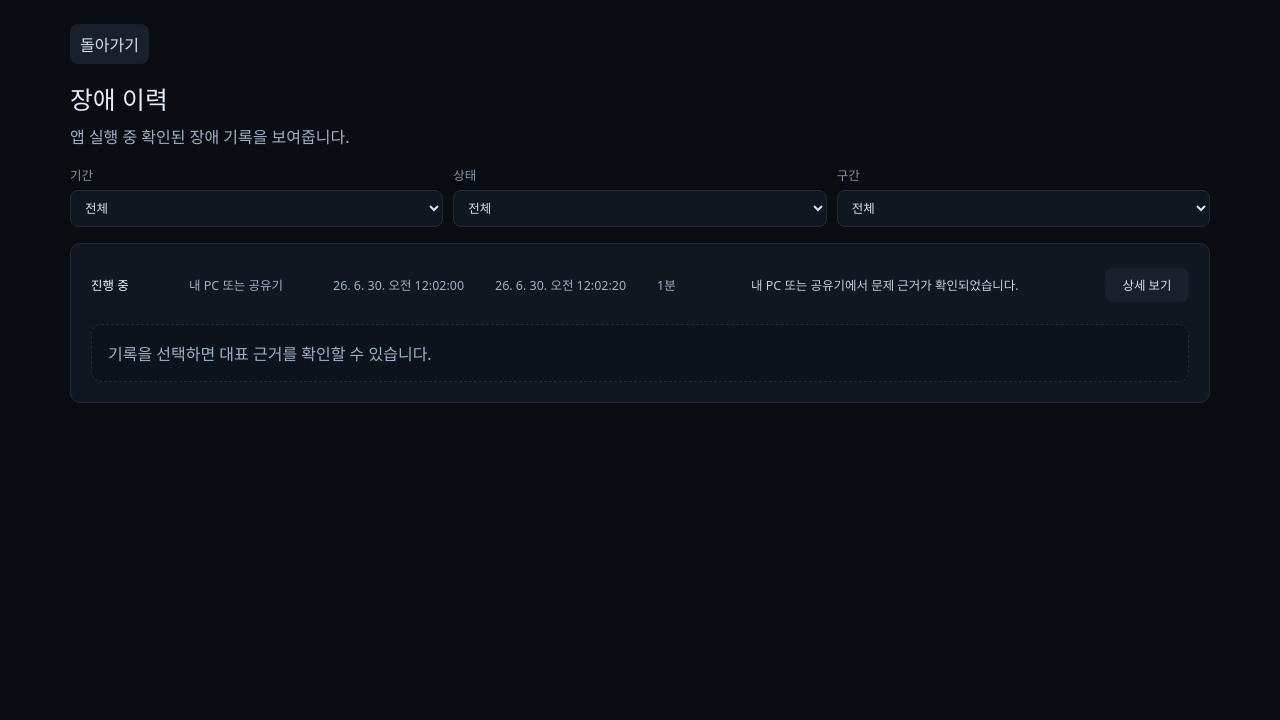
it: NetworkIncidentHistoryPage › closes the detail panel when the close action is pressed
Click the button "상세 보기". click: (1147, 285)
box: [1105,268,1189,302]
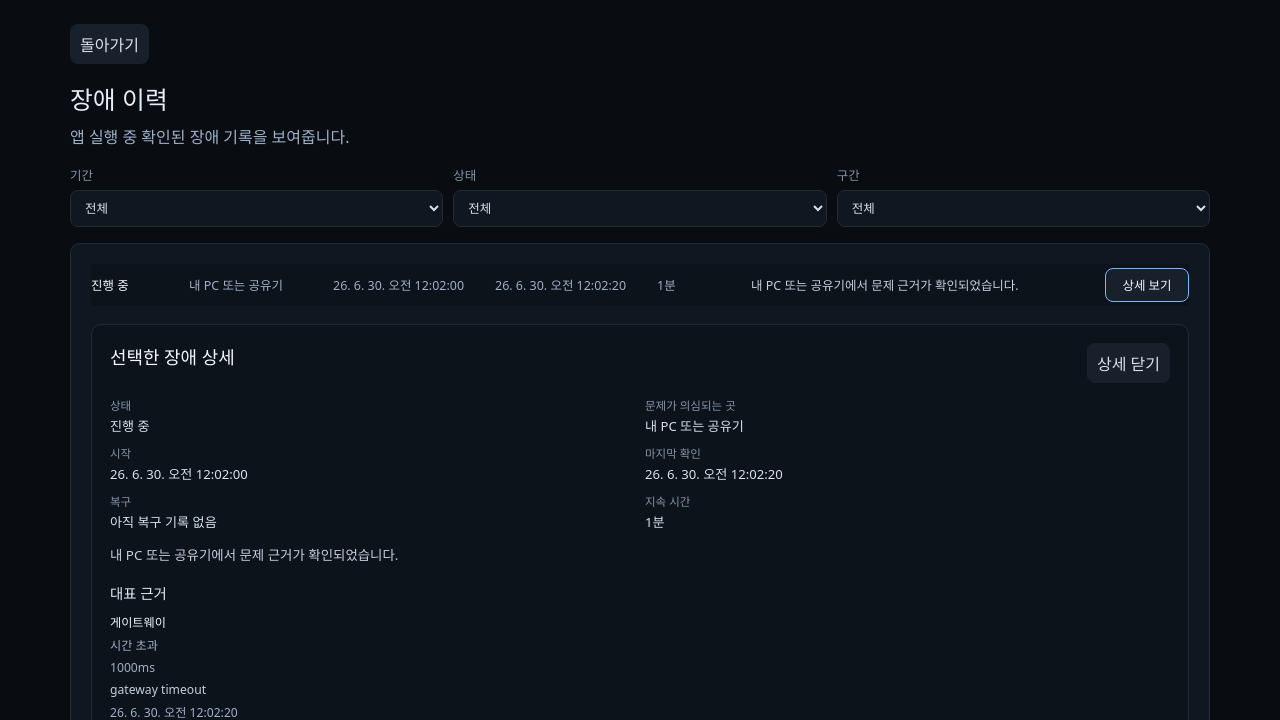
Click the button "상세 닫기". click: (1128, 363)
box: [1087,343,1170,383]
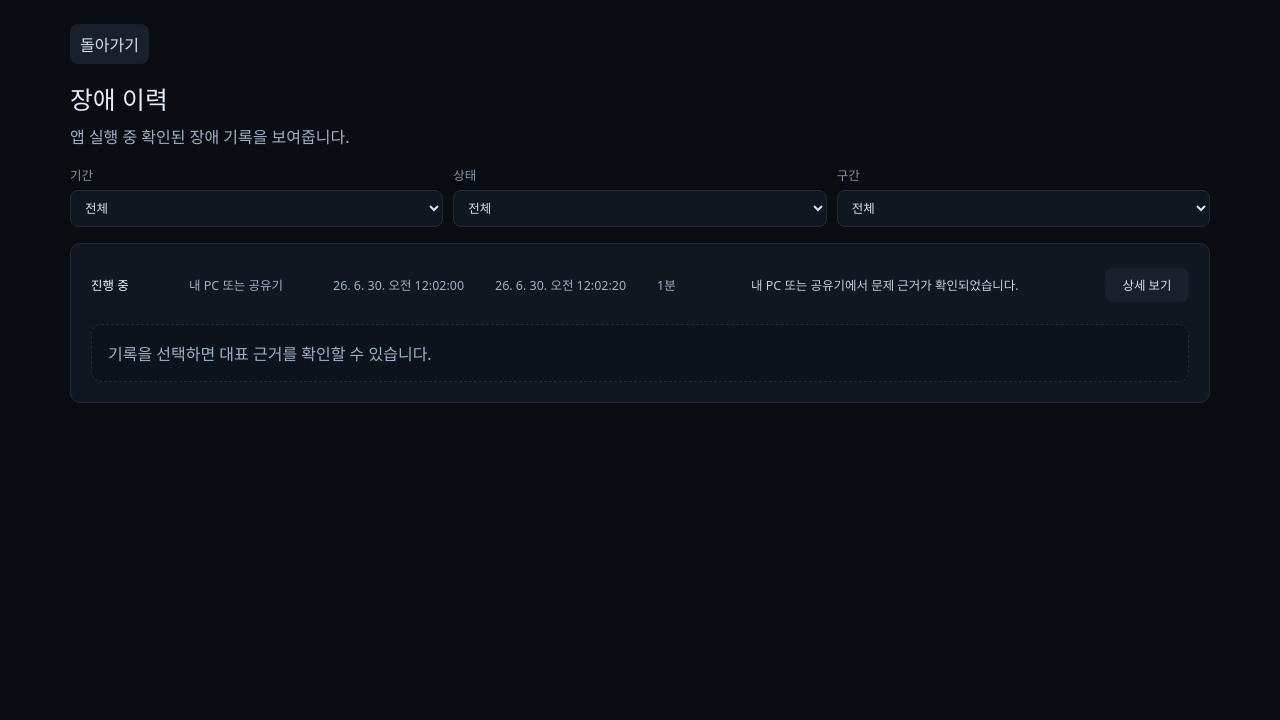
Expected: the heading "선택한 장애 상세" is gone
